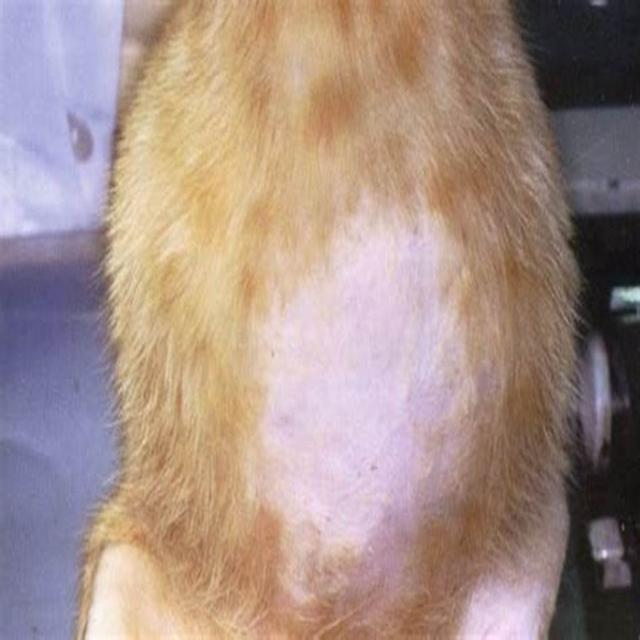hairloss: (265, 207, 434, 556)
